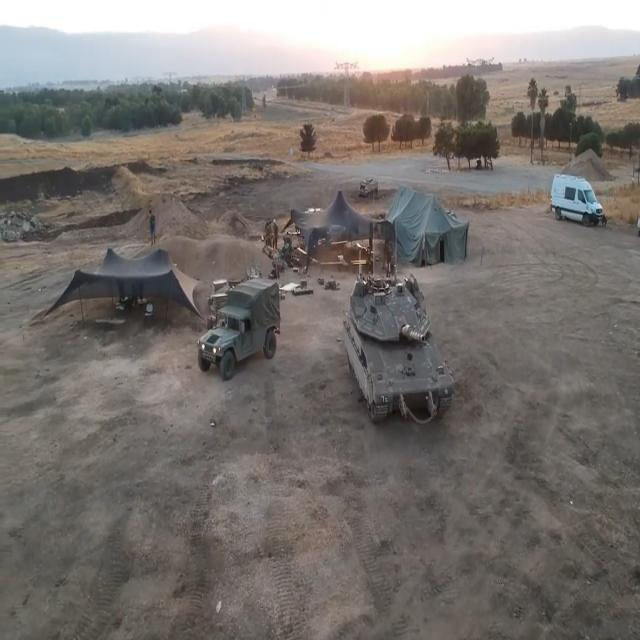tank: (338, 258, 472, 430)
